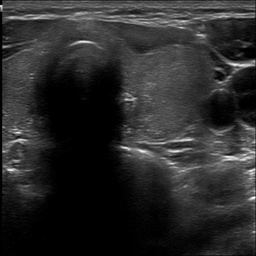mass: (127, 49, 204, 136)
